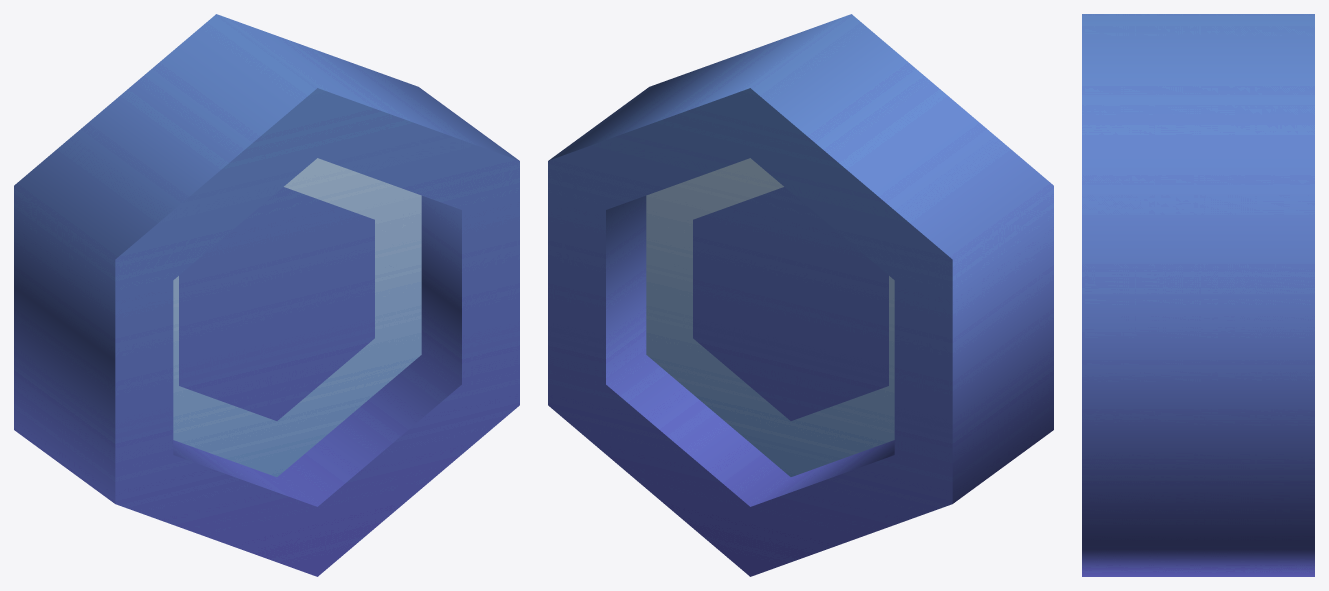
Rendered from coin-gold.glb.
3 renders of one model, left to right at view 1: azimuth 30°, elevation 25°; view 2: azimuth 150°, elevation 25°; view 3: azimuth 270°, elevation 25°, orthographic. The views are drawn at different scales.
Parts seen in each view (by area): view 1: coin-gold; view 2: coin-gold; view 3: coin-gold.
Boxes of the visible parts, <box> form: coin-gold: <box>14,14,519,576</box>; coin-gold: <box>548,14,1053,576</box>; coin-gold: <box>1082,14,1314,576</box>.
Size of the model in its own units: 0.3464 by 0.4 by 0.15.
Materials: 1 (1 with a texture image).
